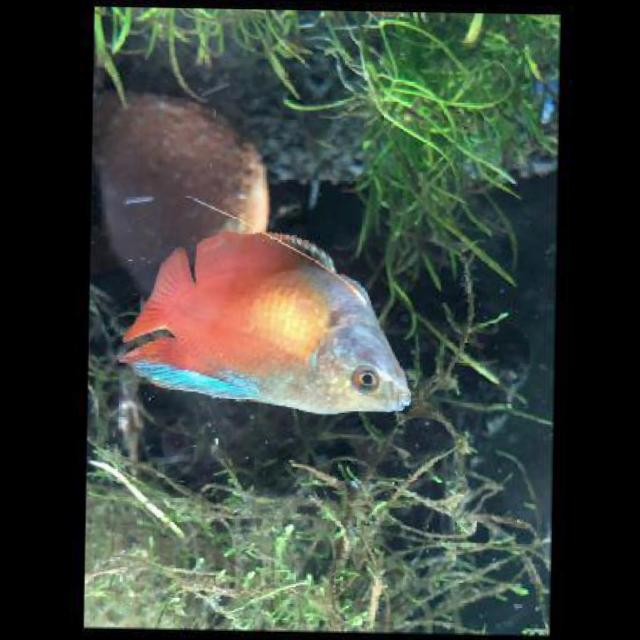Gourami: (113, 221, 422, 426)
